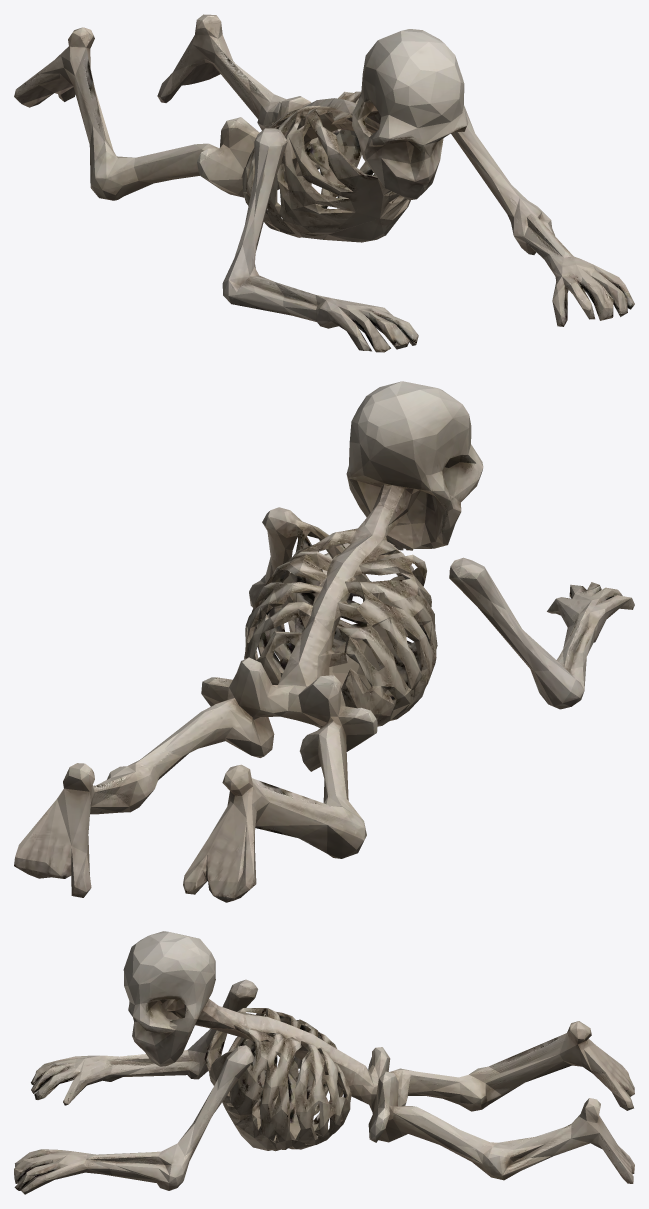
File: skeleton_crawling.glb
The picture shows the model from 3 angles, top to bottom: view 1: azimuth 30°, elevation 25°; view 2: azimuth 150°, elevation 25°; view 3: azimuth 270°, elevation 25°; orthographic projection. The views are drawn at different scales.
Visible parts, largest first — view 1: geometry_0; view 2: geometry_0; view 3: geometry_0.
Part boxes in pixels (x1,y1,x2,y2): geometry_0: (14,14,634,352); geometry_0: (14,381,634,902); geometry_0: (14,931,634,1194).
Bounding box in the file's own units: 0.49 × 0.4018 × 0.9965.
Materials: 1 (1 with a texture image).
